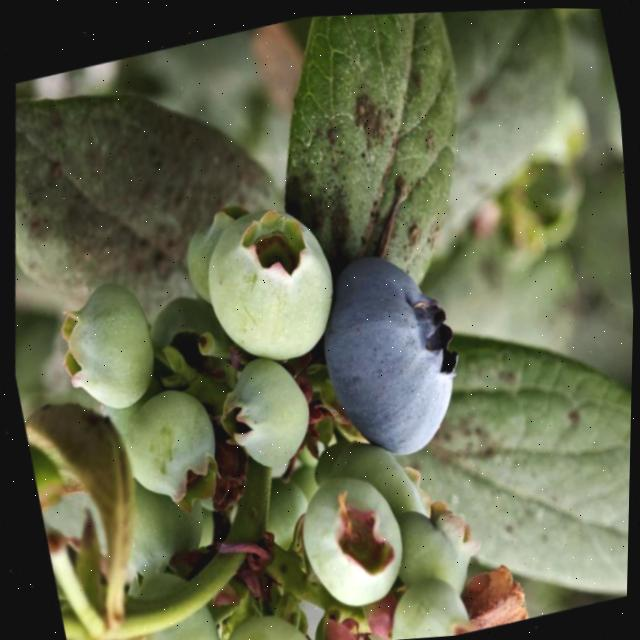RipeBlueBerry: (286, 225, 488, 477)
UnripeBlueBerry: (174, 181, 357, 382), (280, 452, 426, 623), (31, 264, 174, 429), (108, 372, 234, 514), (205, 339, 328, 481), (95, 558, 235, 640), (376, 560, 486, 640)
